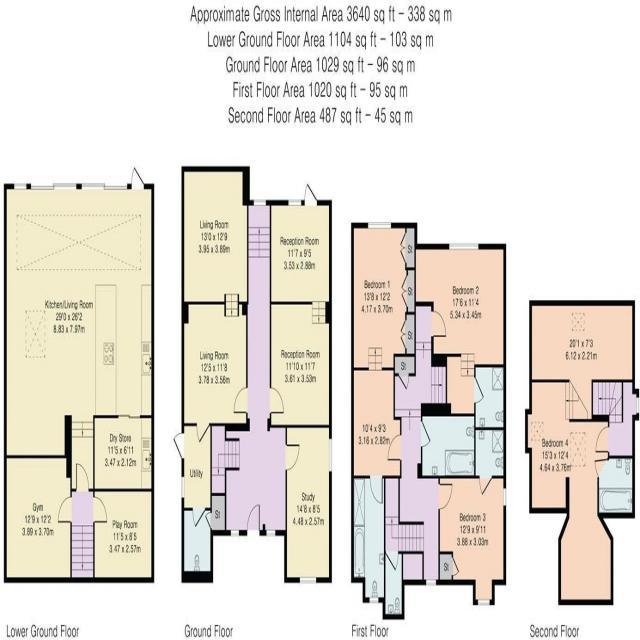DOOR: (246, 503, 261, 536), (233, 385, 248, 415), (431, 310, 447, 338), (387, 433, 402, 462), (285, 443, 300, 472), (369, 475, 383, 505), (93, 496, 108, 524), (270, 386, 284, 415), (595, 426, 610, 453), (438, 483, 453, 510), (76, 461, 89, 491), (173, 431, 185, 461), (304, 182, 318, 206), (385, 550, 399, 573), (594, 458, 609, 479), (195, 423, 210, 444), (192, 507, 206, 529), (474, 376, 484, 404), (421, 420, 431, 448), (479, 475, 492, 496)
ROOM: (4, 166, 155, 491), (525, 379, 613, 605), (351, 222, 417, 504), (414, 243, 506, 417), (181, 166, 250, 317), (181, 293, 248, 444), (438, 475, 506, 606), (284, 424, 332, 583), (93, 489, 154, 583)
SLIDING DOOR: (81, 177, 129, 192), (29, 180, 78, 193)
WINDOW: (449, 243, 479, 250), (367, 221, 392, 229), (328, 438, 333, 473), (299, 576, 317, 584), (288, 199, 302, 206), (181, 476, 185, 499), (477, 599, 490, 606), (253, 199, 266, 206), (14, 183, 27, 190), (266, 529, 276, 537), (230, 529, 240, 537), (426, 579, 437, 586), (503, 488, 507, 507), (369, 597, 379, 603), (636, 397, 639, 414)
